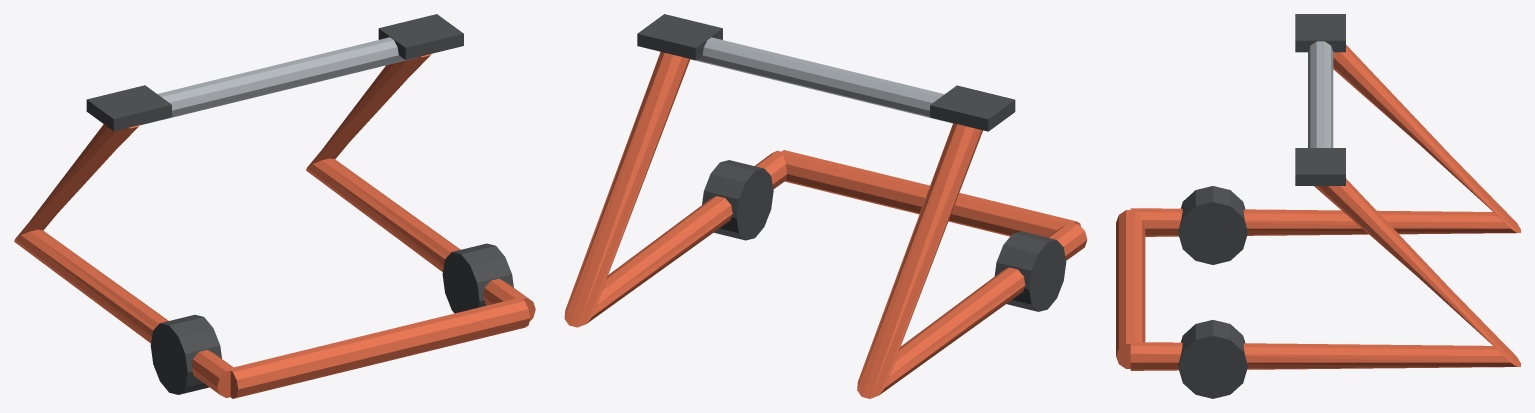
Rendered from motorcycle-racing-and-street-bikes-front-paddock-stand-717b1316__15433.glb.
The picture shows the model from 3 angles, left to right: view 1: azimuth 30°, elevation 25°; view 2: azimuth 150°, elevation 25°; view 3: azimuth 270°, elevation 25°; orthographic projection. The views are drawn at different scales.
Parts seen in each view (by area): view 1: front-paddock-stand; view 2: front-paddock-stand; view 3: front-paddock-stand.
Part boxes in pixels (left/top/right/bottom): front-paddock-stand: left=14, top=14, right=535, bottom=398; front-paddock-stand: left=564, top=14, right=1087, bottom=398; front-paddock-stand: left=1116, top=14, right=1520, bottom=398.
Bounding box in the file's own units: 0.6 × 0.4 × 0.639.
